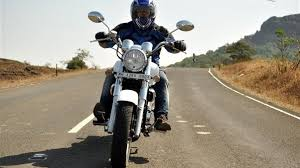with_helmet: (128, 1, 158, 29)
